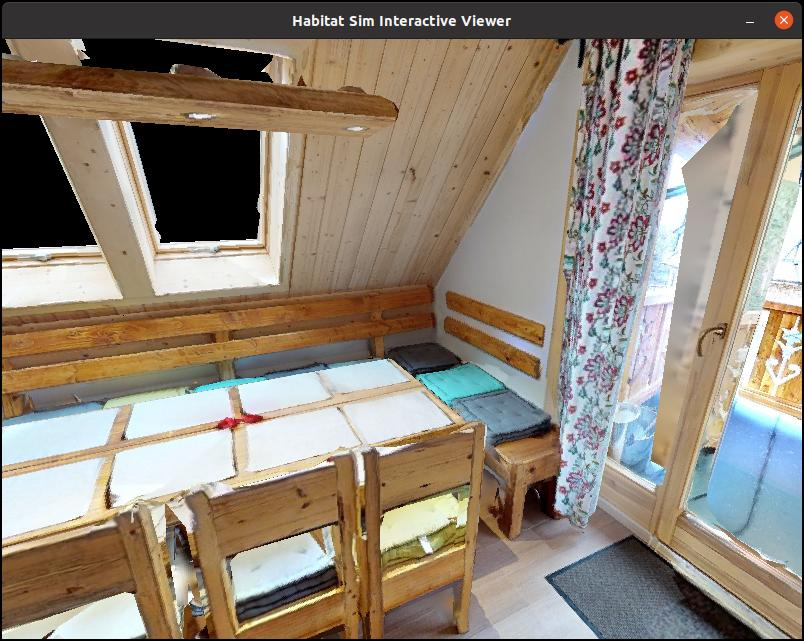chair: (305, 396, 502, 641), (162, 456, 384, 641)
table: (0, 348, 478, 622)
